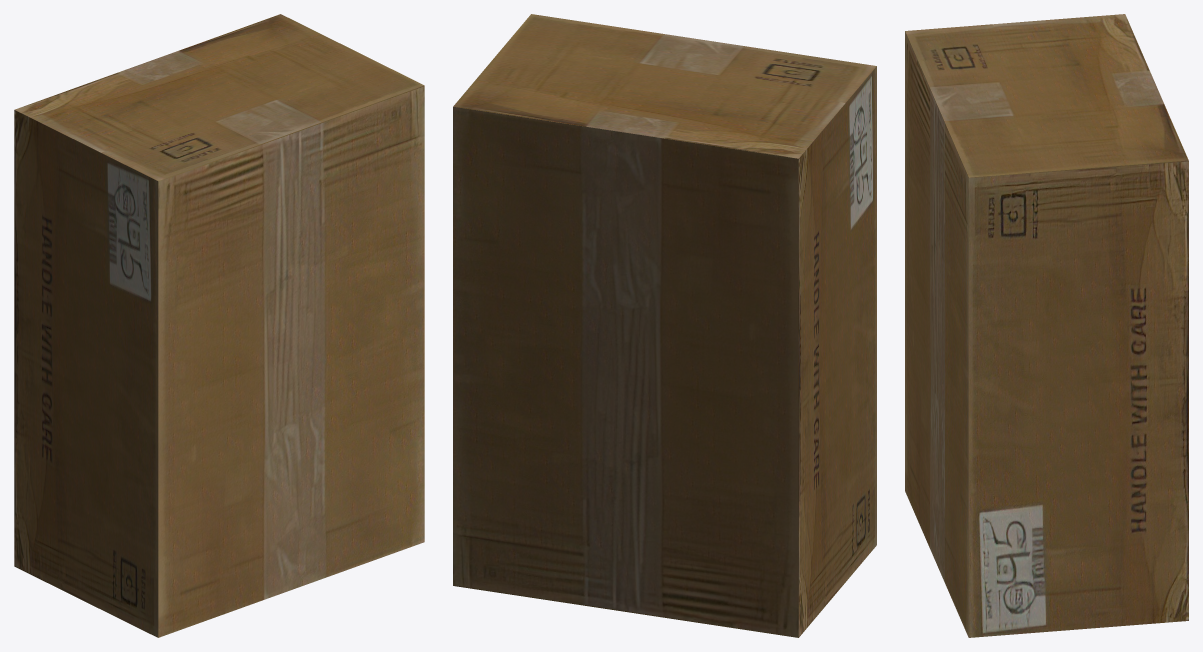
3 renders of one model, left to right at view 1: azimuth 30°, elevation 25°; view 2: azimuth 150°, elevation 25°; view 3: azimuth 270°, elevation 25°, orthographic. The views are drawn at different scales.
Visible parts, largest first — view 1: x6; view 2: x6; view 3: x6.
Boxes of the visible parts, x1,y1,x2,y2 form: x6: (14,14,424,637); x6: (453,14,876,637); x6: (905,14,1188,637).
Bounding box in the file's own units: 0.2627 × 0.3447 × 0.1925.
1 material, 1 textured.
